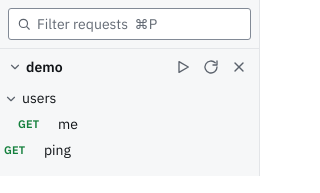
collapse a collection › collection_right_click_still_opens_menu
Right-click the button "demo": (35, 67) x1=4 y1=55 x2=66 y2=80
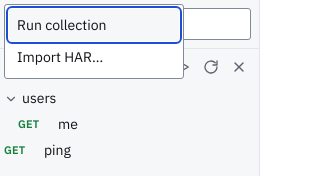
Now the menu named "demo" is shown, box x1=4 y1=4 x2=184 y2=79
